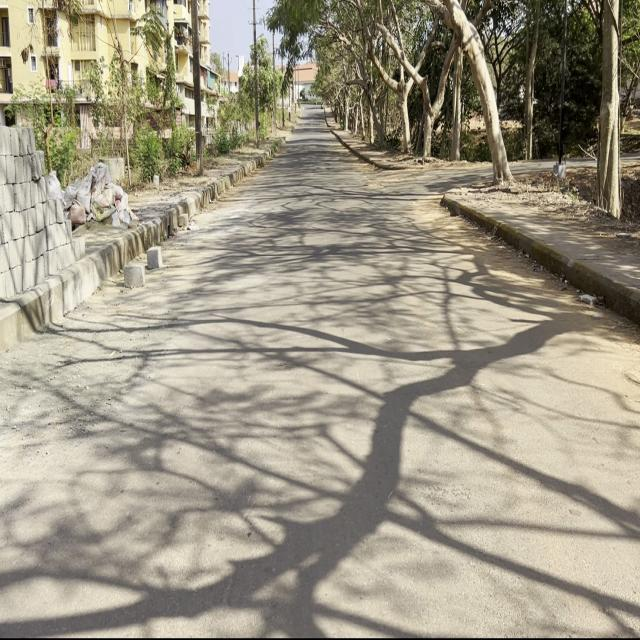Road: (5, 110, 637, 632)
